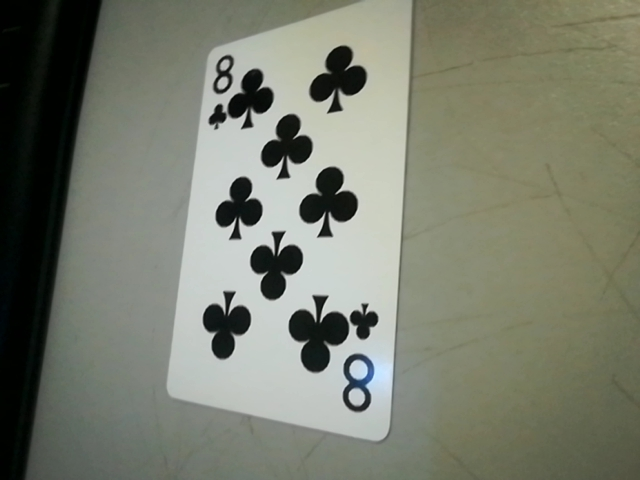mh 8: (337, 303, 392, 425)
